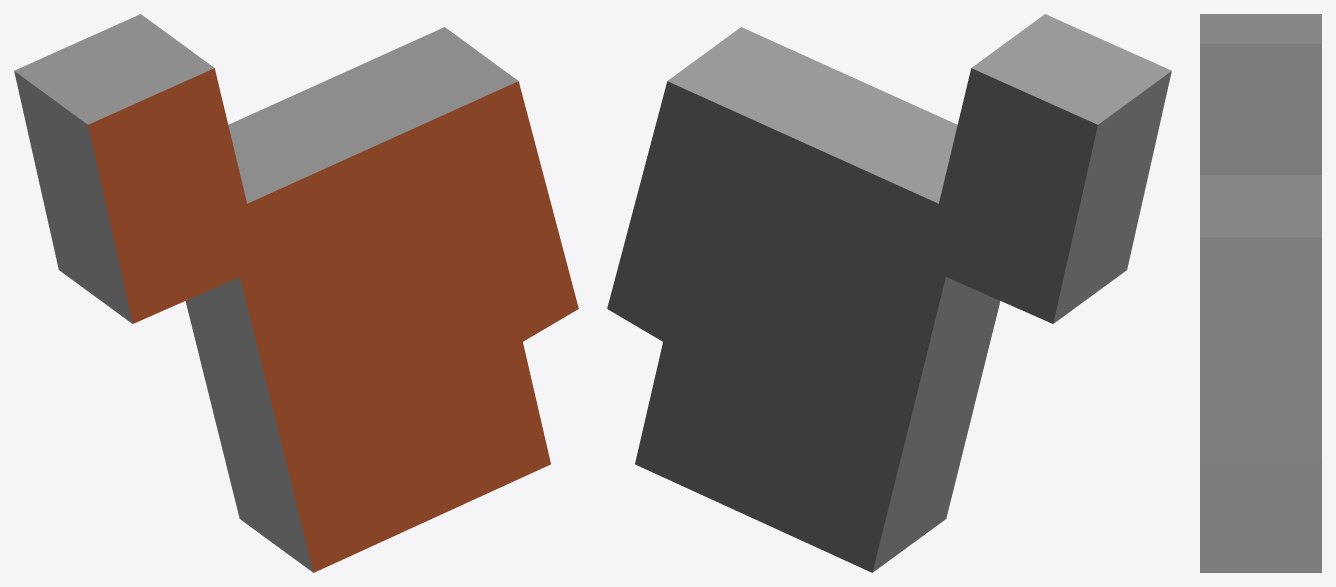
File: construction_5018_assumed_A_Casa_h6m.obj
The picture shows the model from 3 angles, left to right: view 1: azimuth 30°, elevation 25°; view 2: azimuth 150°, elevation 25°; view 3: azimuth 270°, elevation 25°; orthographic projection. The views are drawn at different scales.
Parts seen in each view (by area): view 1: construction_5018_assumed_A_Casa; view 2: construction_5018_assumed_A_Casa; view 3: construction_5018_assumed_A_Casa.
Boxes of the visible parts, box(x1,y1,x2,y2) form: construction_5018_assumed_A_Casa: box(14, 14, 578, 572); construction_5018_assumed_A_Casa: box(607, 14, 1171, 572); construction_5018_assumed_A_Casa: box(1200, 14, 1321, 572).
Bounding box in the file's own units: 23.01 × 23.69 × 6.
